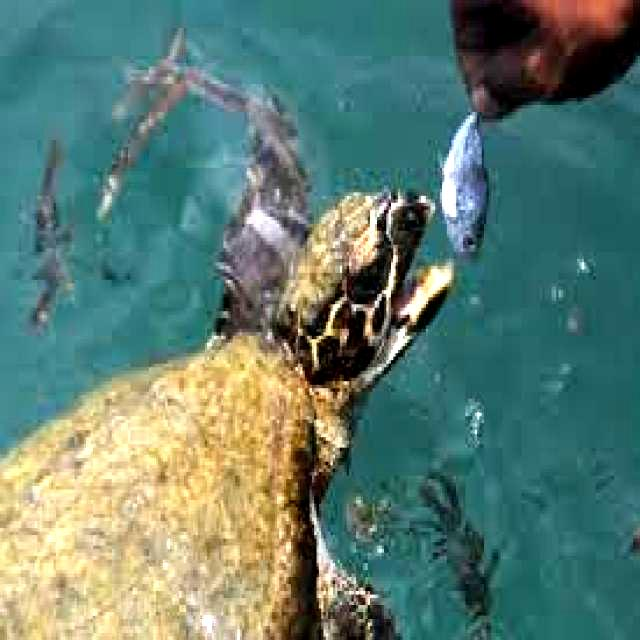Sea turtle: (0, 184, 456, 640)
